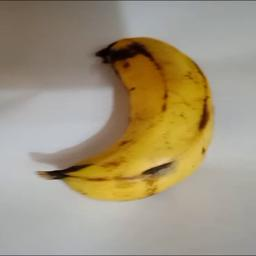Banana Semifresh: (81, 32, 218, 197)
